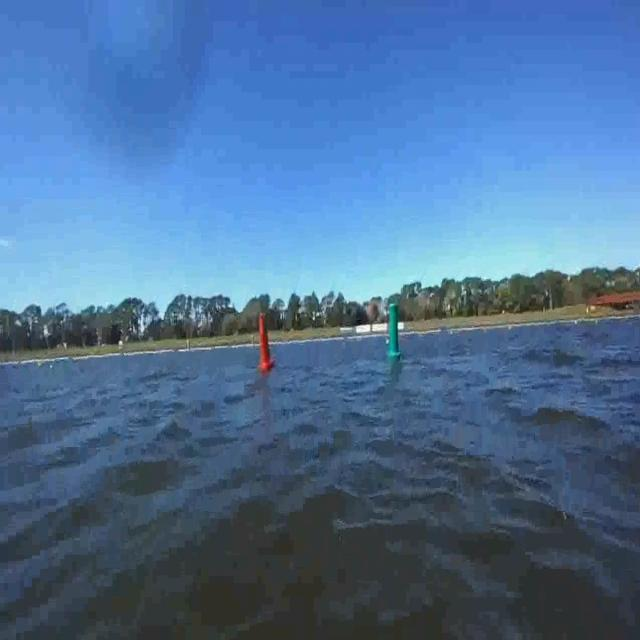green-column-buoy: (386, 302, 402, 359)
red-column-buoy: (258, 313, 276, 372)
